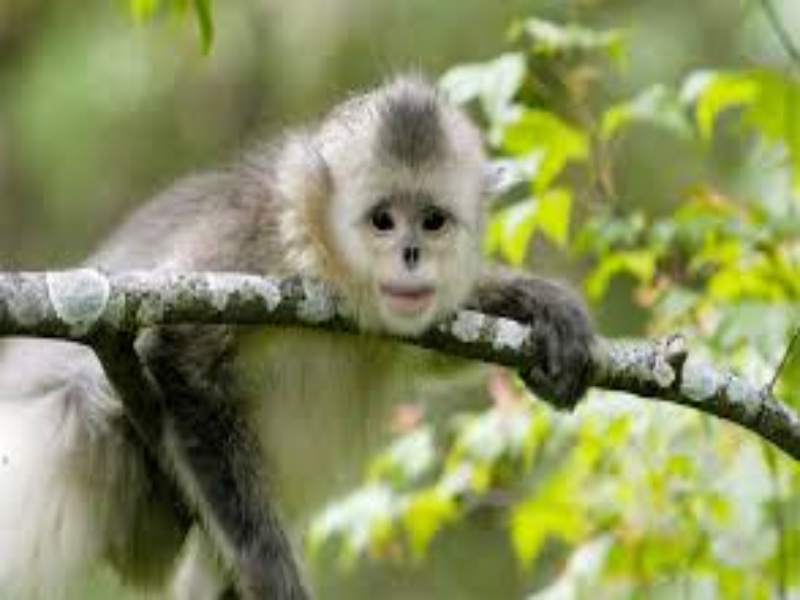monkey: (31, 56, 642, 594)
